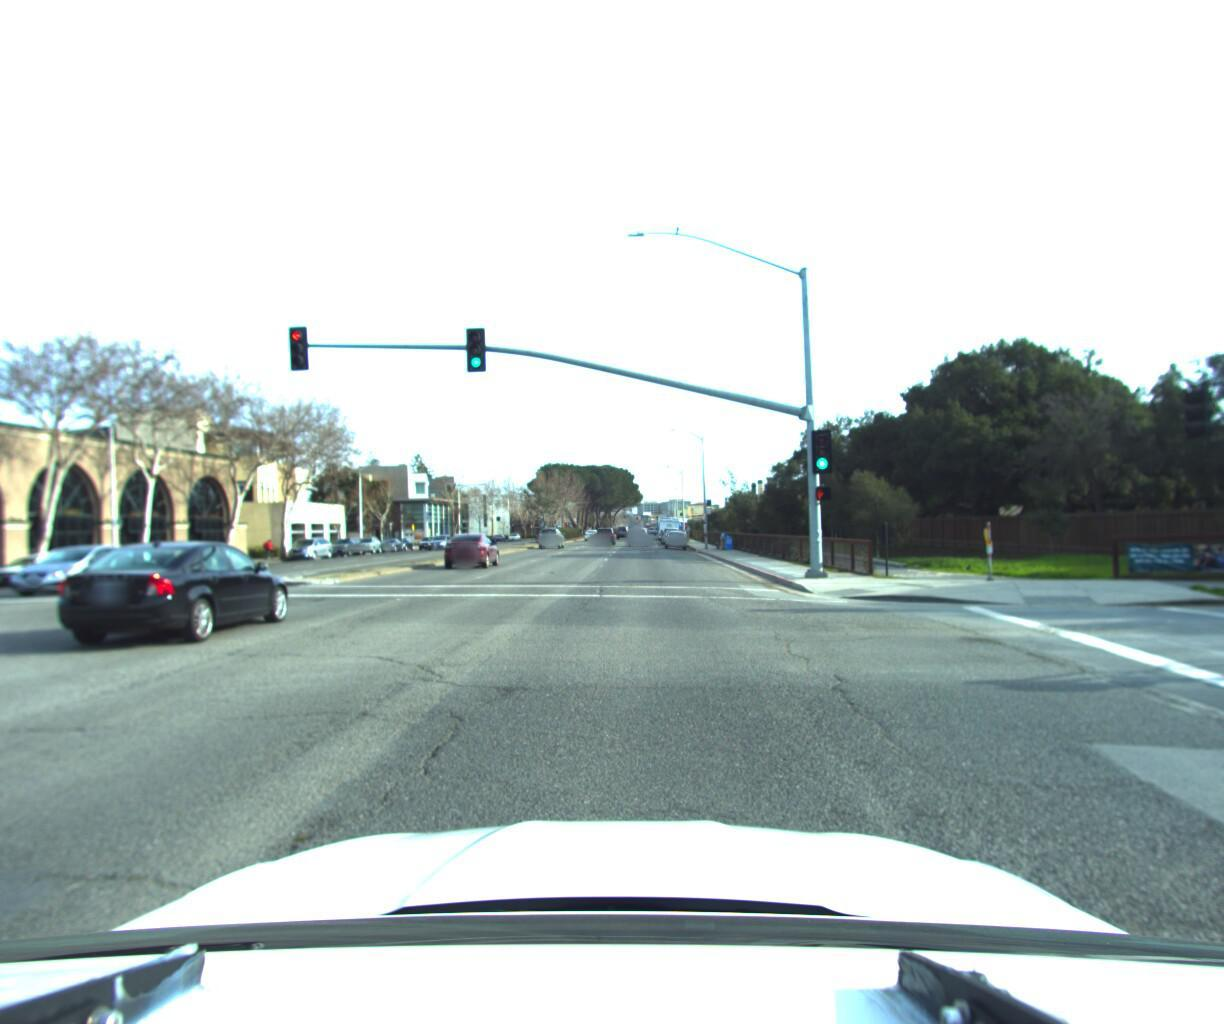car: (51, 535, 304, 656), (0, 542, 157, 604), (0, 551, 93, 594), (442, 527, 502, 567), (286, 536, 338, 562), (324, 535, 366, 558), (537, 525, 567, 548), (629, 524, 651, 545), (596, 524, 618, 543)
